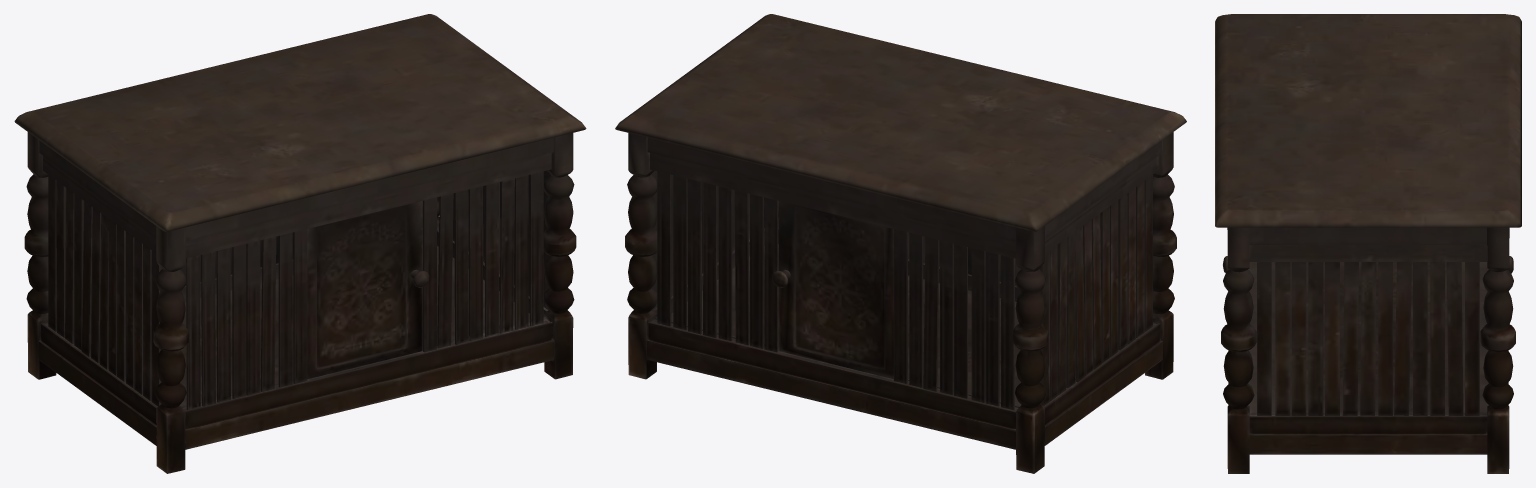
File: gallinera_table.glb
3 views of the same model, side by side, from view 1: azimuth 30°, elevation 25°; view 2: azimuth 150°, elevation 25°; view 3: azimuth 270°, elevation 25° (orthographic).
Parts seen in each view (by area): view 1: gallinera_table; view 2: gallinera_table; view 3: gallinera_table.
Boxes of the visible parts, x1,y1,x2,y2 form: gallinera_table: (14, 14, 586, 473); gallinera_table: (615, 14, 1186, 473); gallinera_table: (1215, 14, 1521, 473).
Bounding box in the file's own units: 0.8301 × 0.4872 × 0.5174.
Materials: 1 (1 with a texture image).
